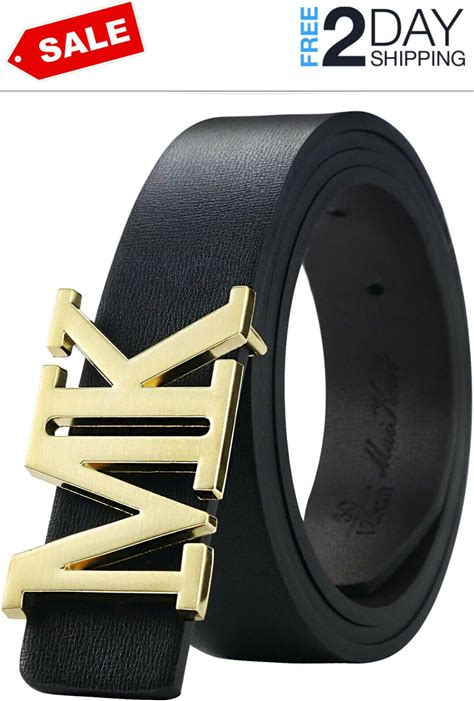cuero: (14, 110, 474, 701)
